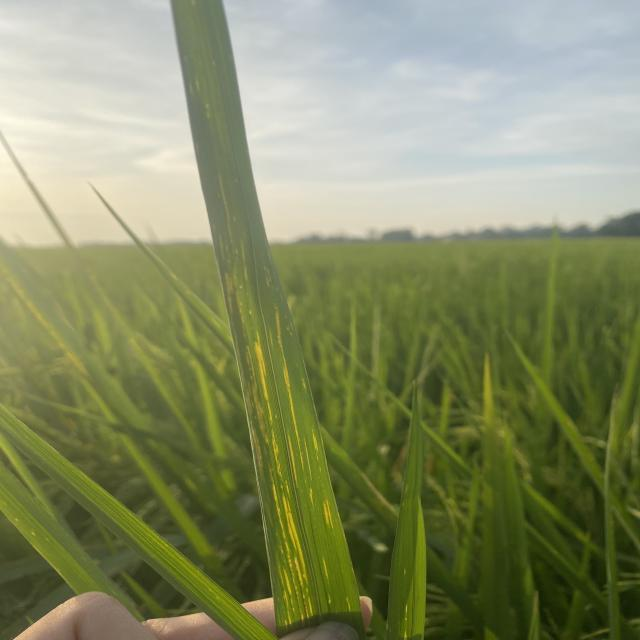Dom soc vi khuan: (217, 256, 270, 444), (273, 306, 305, 471), (281, 494, 309, 586), (253, 331, 272, 422), (270, 428, 284, 482), (287, 435, 299, 489), (323, 499, 334, 529)
